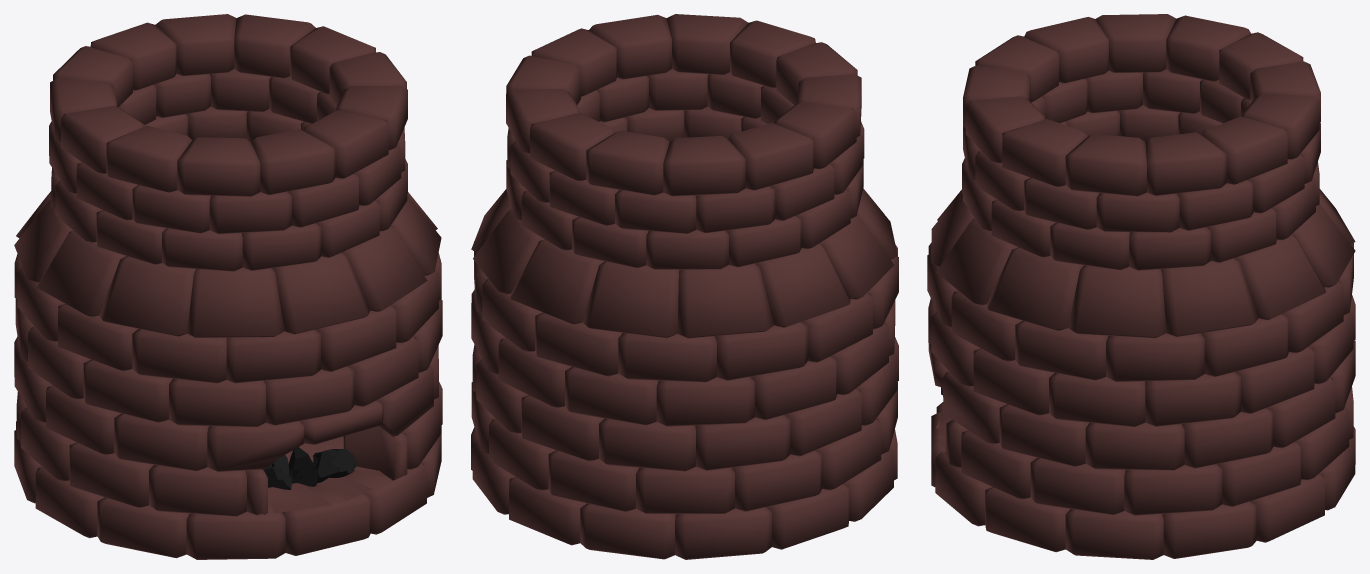
File: Kiln.glb
3 views of the same model, side by side, from view 1: azimuth 30°, elevation 25°; view 2: azimuth 150°, elevation 25°; view 3: azimuth 270°, elevation 25° (orthographic).
Visible parts, largest first — view 1: Body, Coal; view 2: Body; view 3: Body.
Boxes of the visible parts, x1,y1,x2,y2 form: Body: (14,14,442,559); Coal: (263,447,357,489); Body: (471,14,898,559); Body: (927,14,1355,559).
Size of the model in its own units: 1 by 1 by 1.
